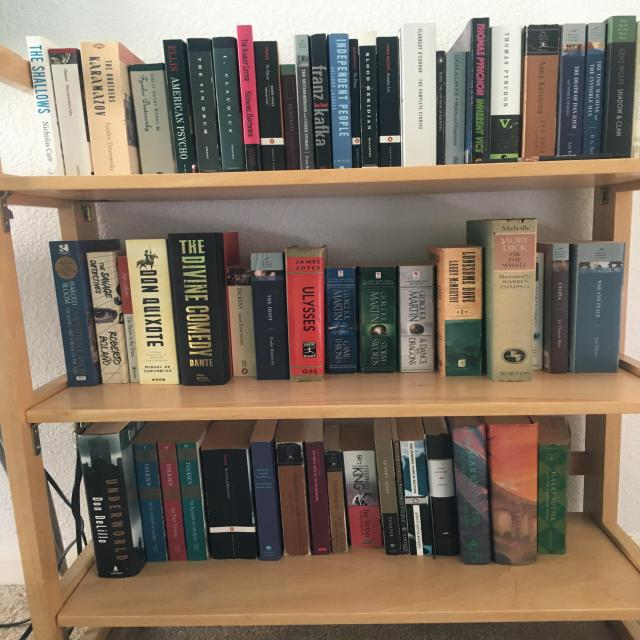book: (168, 233, 225, 385), (77, 433, 134, 578), (125, 239, 179, 384), (492, 219, 537, 381), (488, 423, 537, 565), (79, 41, 131, 174), (573, 243, 625, 374), (48, 240, 94, 387), (203, 449, 256, 560), (452, 425, 492, 565), (26, 36, 65, 176), (85, 251, 126, 383), (50, 48, 92, 176), (129, 63, 175, 174), (285, 249, 323, 381), (400, 23, 435, 166), (252, 253, 290, 380), (163, 38, 198, 173), (212, 38, 247, 172), (523, 24, 558, 157), (445, 248, 481, 376), (188, 38, 220, 173), (605, 15, 635, 158), (424, 434, 458, 556), (254, 41, 286, 170), (490, 27, 521, 158), (134, 444, 168, 562), (360, 266, 396, 374), (276, 443, 310, 556), (401, 440, 434, 556), (398, 266, 434, 372), (559, 23, 587, 155), (176, 443, 207, 561), (343, 451, 381, 547), (250, 441, 280, 560), (237, 25, 261, 171), (158, 442, 186, 560), (325, 268, 356, 372), (227, 267, 256, 376), (539, 443, 567, 555), (329, 34, 352, 169), (376, 440, 402, 556), (377, 37, 400, 167), (583, 23, 605, 154), (305, 441, 330, 555), (311, 33, 332, 168), (117, 257, 139, 382), (295, 34, 314, 169), (325, 450, 349, 554), (472, 17, 489, 163), (446, 52, 467, 164), (551, 244, 569, 374), (359, 46, 378, 167), (280, 64, 299, 170), (393, 440, 410, 555), (350, 40, 362, 167), (532, 253, 545, 369), (436, 51, 446, 165)
